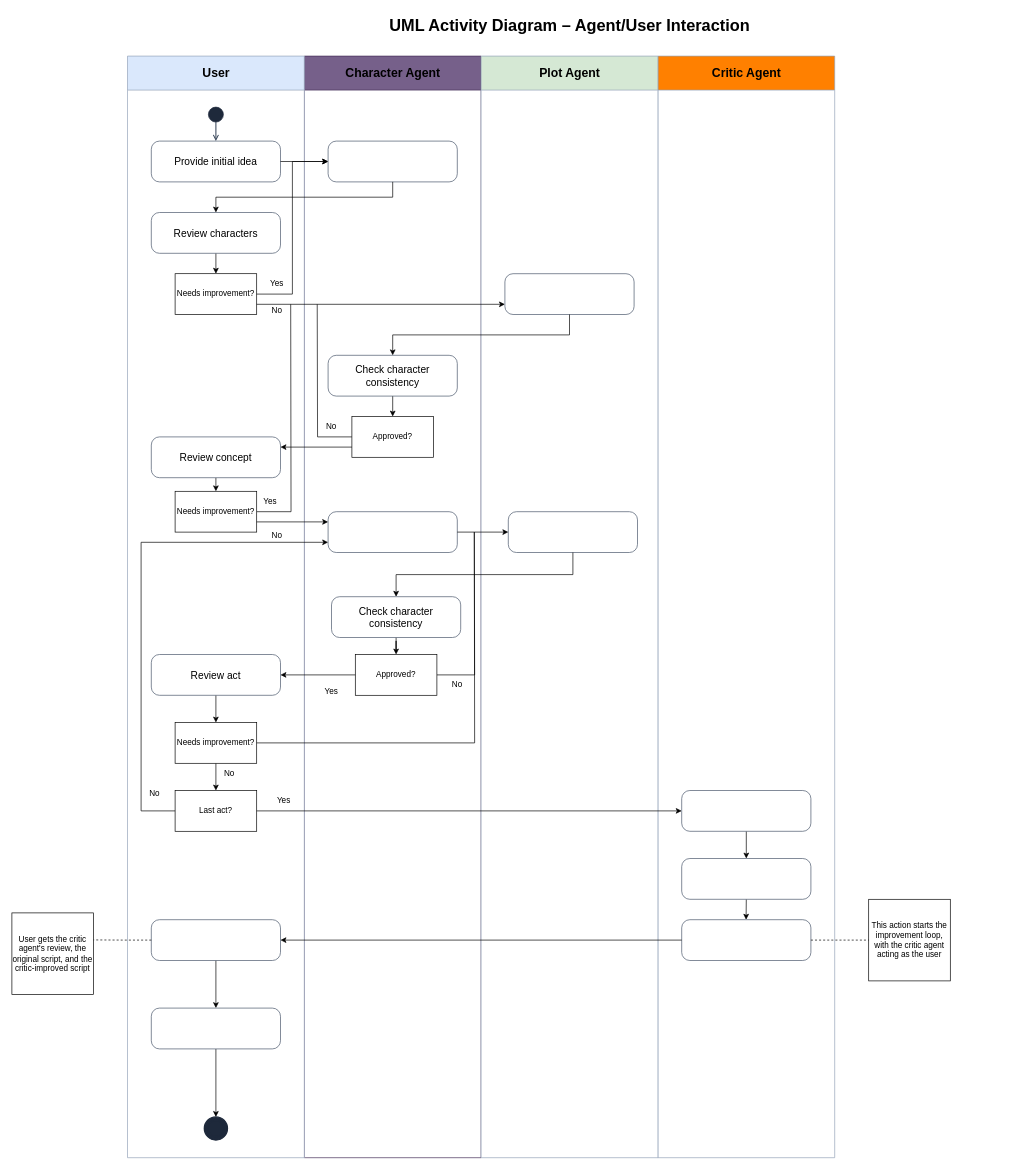
Some shapes in this 1023 by 1170 pixel diagram are drawn without their labels. The centre of each missing label's shape, as x and y in pixels:
Improve script: the point at 746,940
Improvement loop (optional): the point at 215,1028
Read script: the point at 746,810
Review scripts and choose a version: the point at 215,940
Save characters state: the point at 392,531
Write Act 1/2/3...: the point at 573,531
Write characters: the point at 392,161
Write concept: the point at 569,293
Write review for user: the point at 746,878
